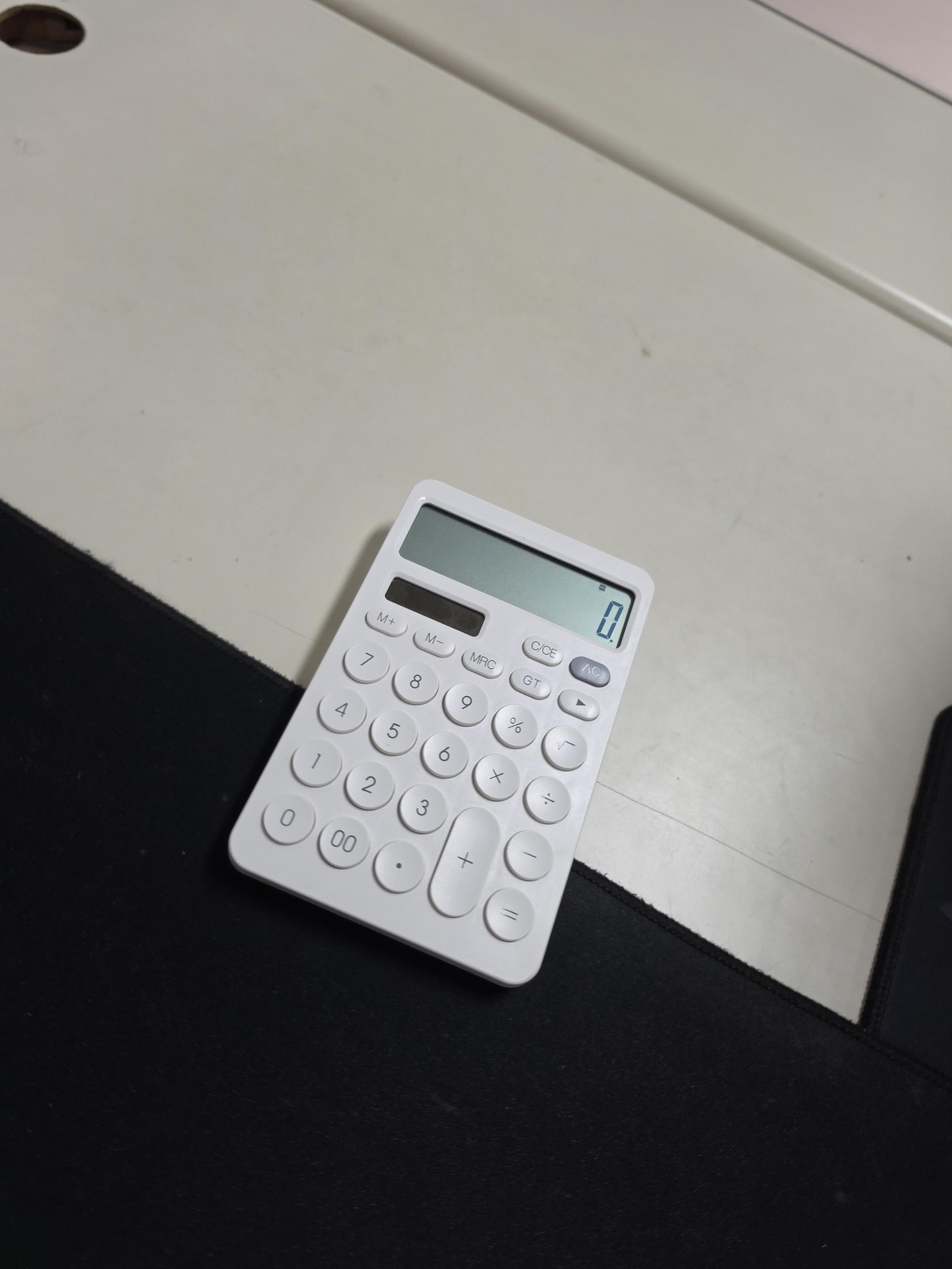calculator: (227, 480, 656, 988)
